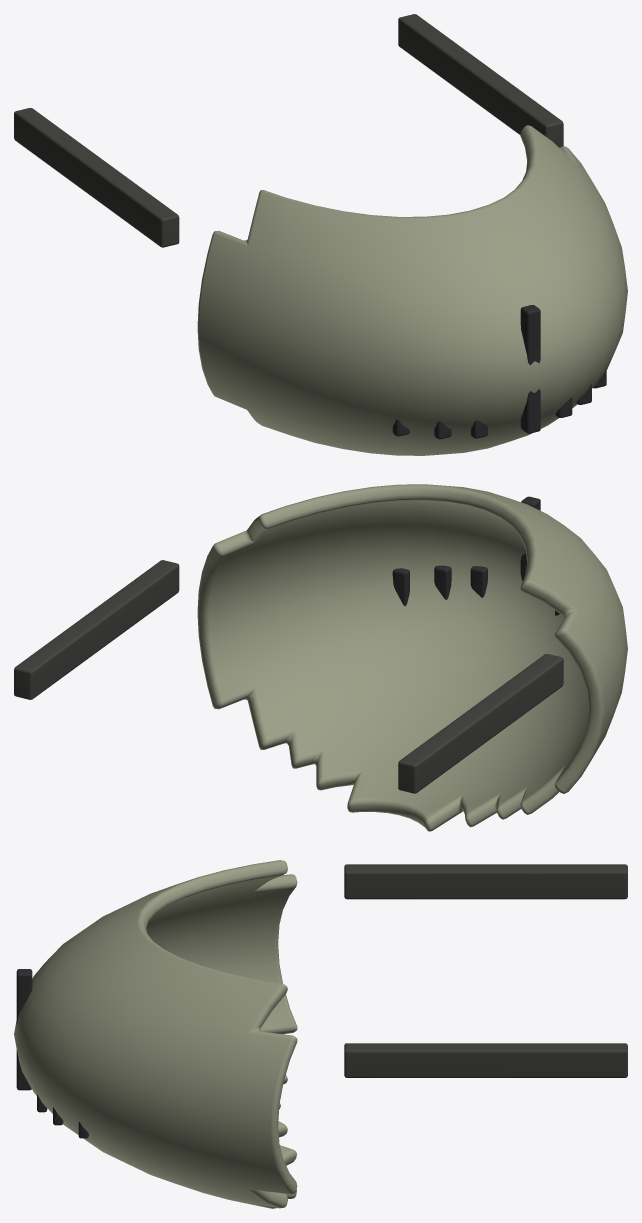
File: mask_half_T.glb
3 views of the same model, one above another, from view 1: azimuth 30°, elevation 25°; view 2: azimuth 150°, elevation 25°; view 3: azimuth 270°, elevation 25° (orthographic). The views are drawn at different scales.
Parts seen in each view (by area): view 1: mask@Head; view 2: mask@Head; view 3: mask@Head.
Boxes of the visible parts, x1,y1,x2,y2 form: mask@Head: (14, 14, 627, 455); mask@Head: (14, 484, 627, 831); mask@Head: (14, 860, 627, 1208).
Bounding box in the file's own units: 0.1731 × 0.1113 × 0.238.
